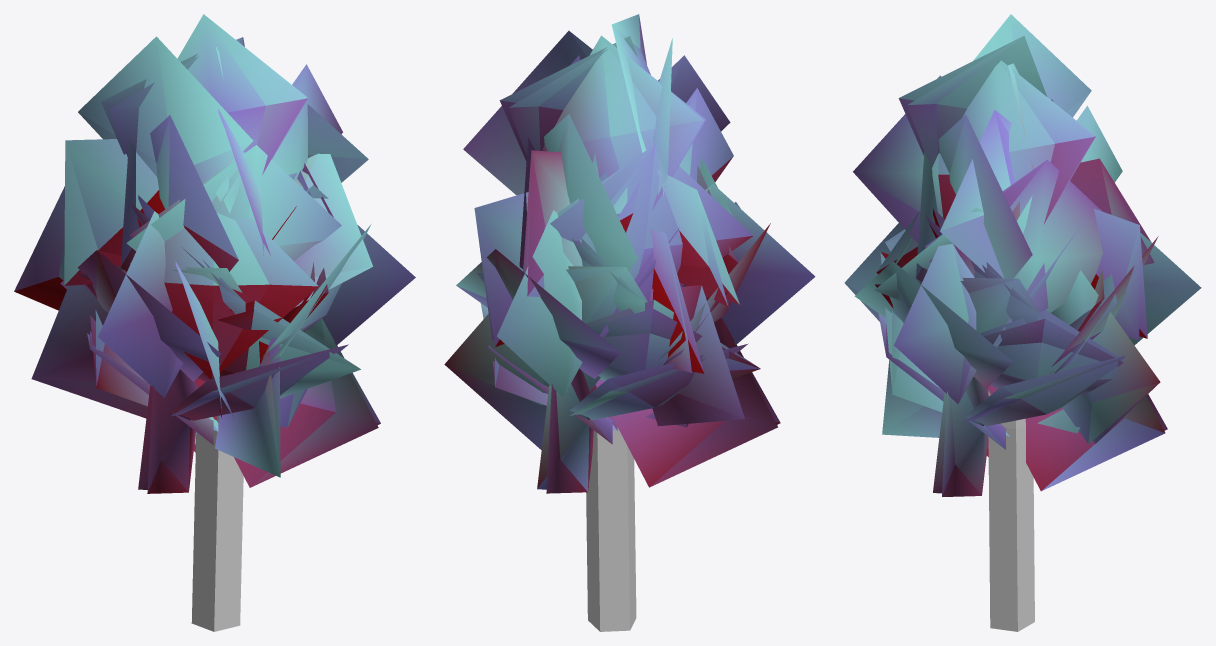
Rendered from oak_b.dae.
3 views of the same model, side by side, from view 1: azimuth 30°, elevation 25°; view 2: azimuth 150°, elevation 25°; view 3: azimuth 270°, elevation 25° (orthographic). The views are drawn at different scales.
Parts seen in each view (by area): view 1: oak_b_a590, oak_b_a250, Colmesh-1; view 2: oak_b_a590, oak_b_a250, Colmesh-1; view 3: oak_b_a590, oak_b_a250, Colmesh-1.
Boxes of the visible parts, x1,y1,x2,y2 form: oak_b_a590: (31, 14, 378, 492); oak_b_a250: (14, 14, 415, 493); Colmesh-1: (191, 415, 243, 631); oak_b_a590: (444, 25, 777, 491); oak_b_a250: (445, 14, 815, 493); Colmesh-1: (586, 386, 636, 631); oak_b_a590: (844, 14, 1165, 495); oak_b_a250: (845, 36, 1201, 496); Colmesh-1: (988, 390, 1034, 631).
Size of the model in its own units: 4.26 by 4.55 by 8.2.
